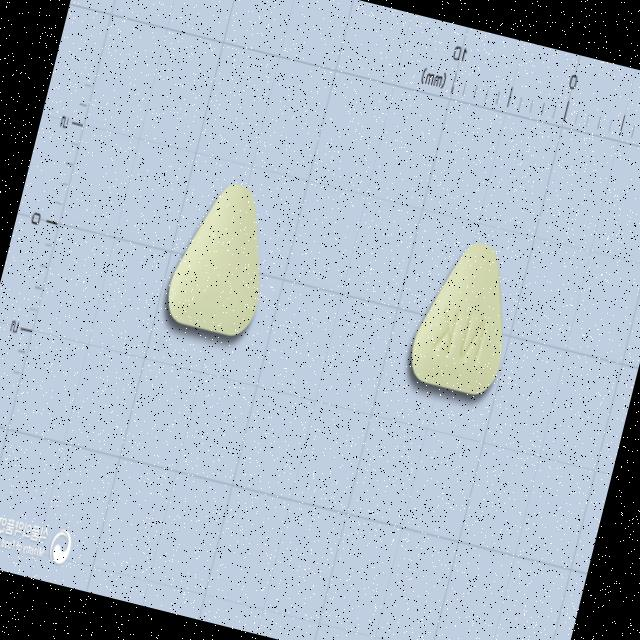Aris: (396, 223, 530, 413), (158, 167, 288, 347)
